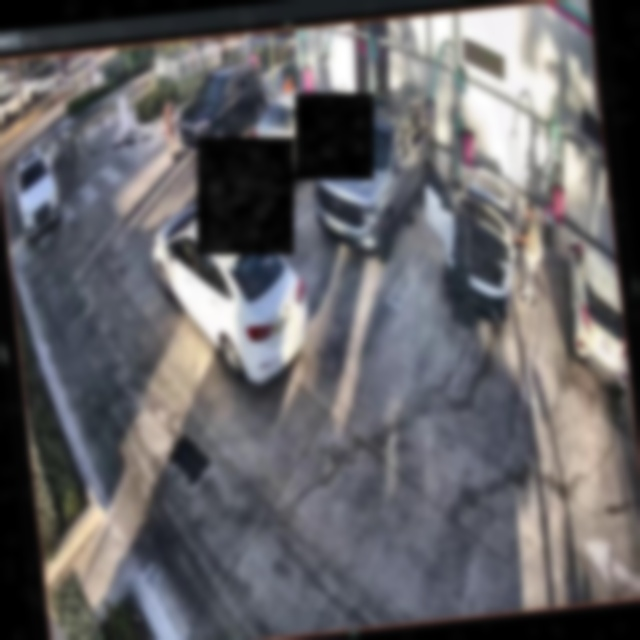Car: (148, 191, 315, 396), (306, 85, 447, 270), (426, 156, 535, 332), (248, 84, 355, 179), (173, 63, 271, 157)
